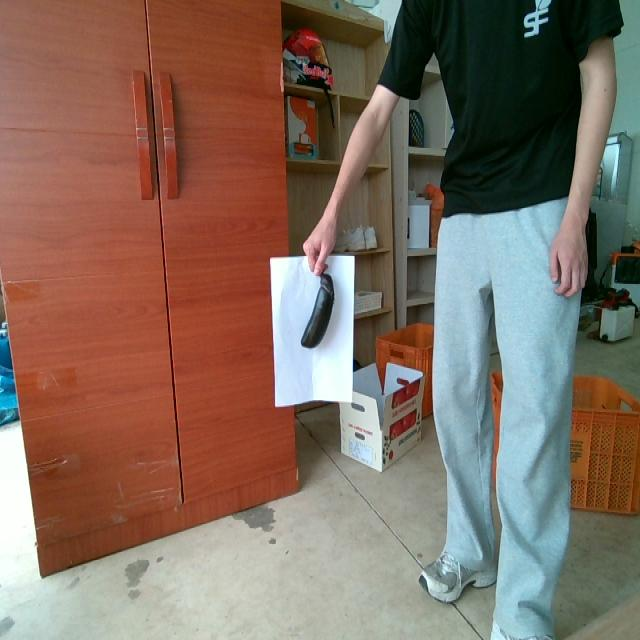Egg plant: (301, 273, 333, 347)
